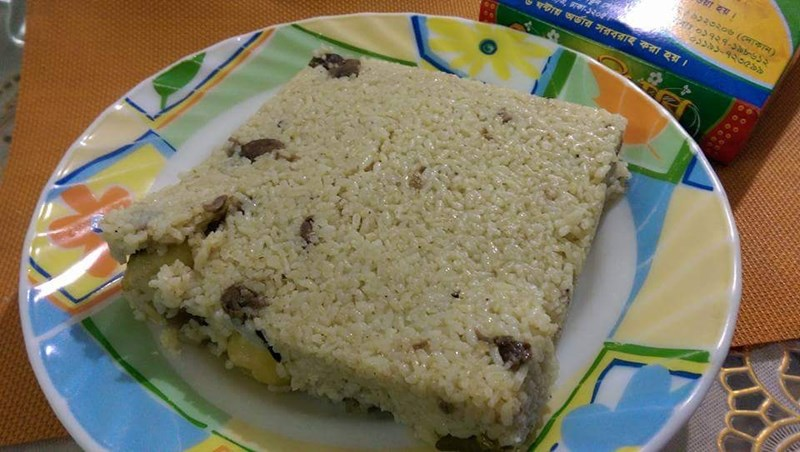rice: (128, 50, 611, 441)
